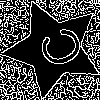C: (28, 23, 86, 75)
